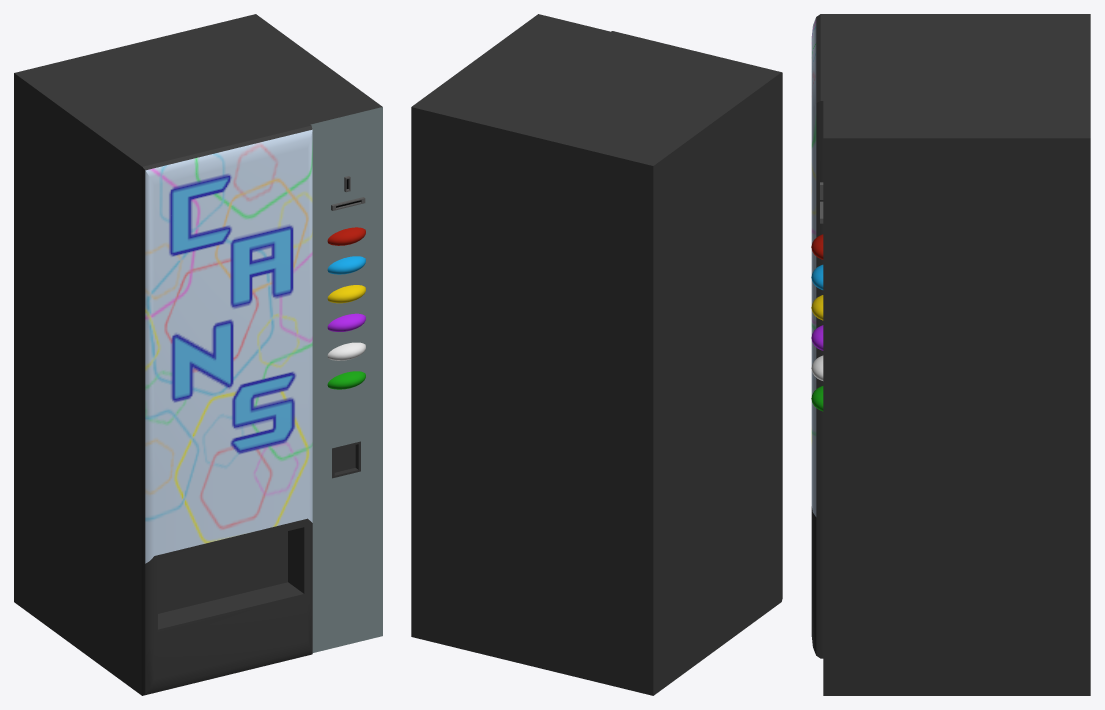
File: vending_machine.fbx
3 views of the same model, side by side, from view 1: azimuth 30°, elevation 25°; view 2: azimuth 150°, elevation 25°; view 3: azimuth 270°, elevation 25° (orthographic). The views are drawn at different scales.
Parts seen in each view (by area): view 1: Vending_Machine; view 2: Vending_Machine; view 3: Vending_Machine.
Part boxes in pixels (x1,y1,x2,y2): Vending_Machine: [14, 14, 382, 695]; Vending_Machine: [411, 14, 782, 695]; Vending_Machine: [811, 14, 1090, 695].
Size of the model in its own units: 88 by 184 by 83.55.
